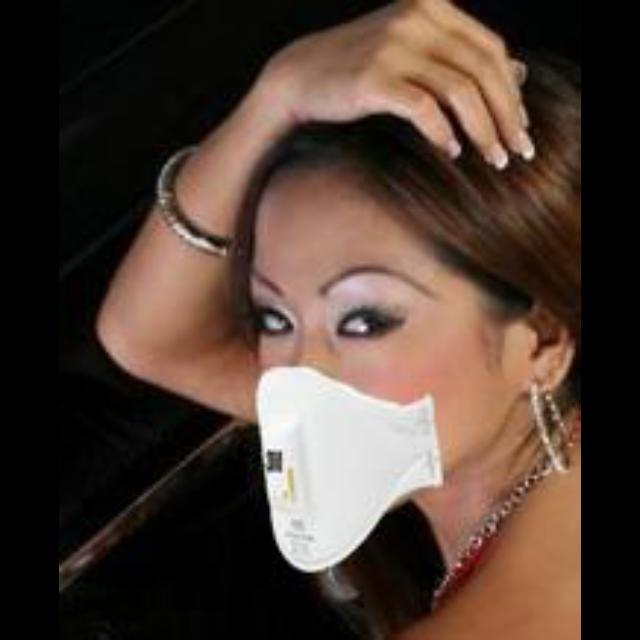suspicion: (204, 162, 568, 548)
